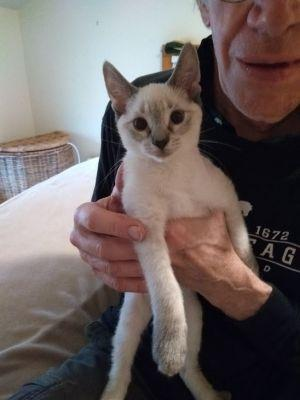siamese: (95, 43, 217, 166)
